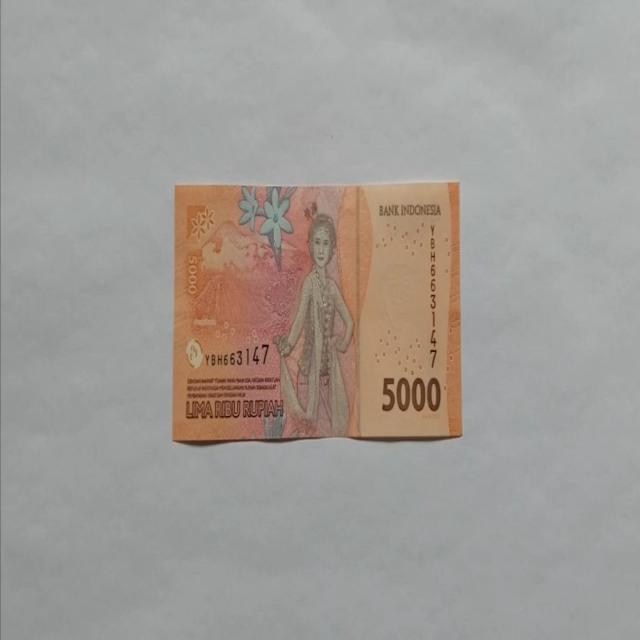lima ribu rupiah: (172, 180, 462, 444), (272, 212, 356, 438)
